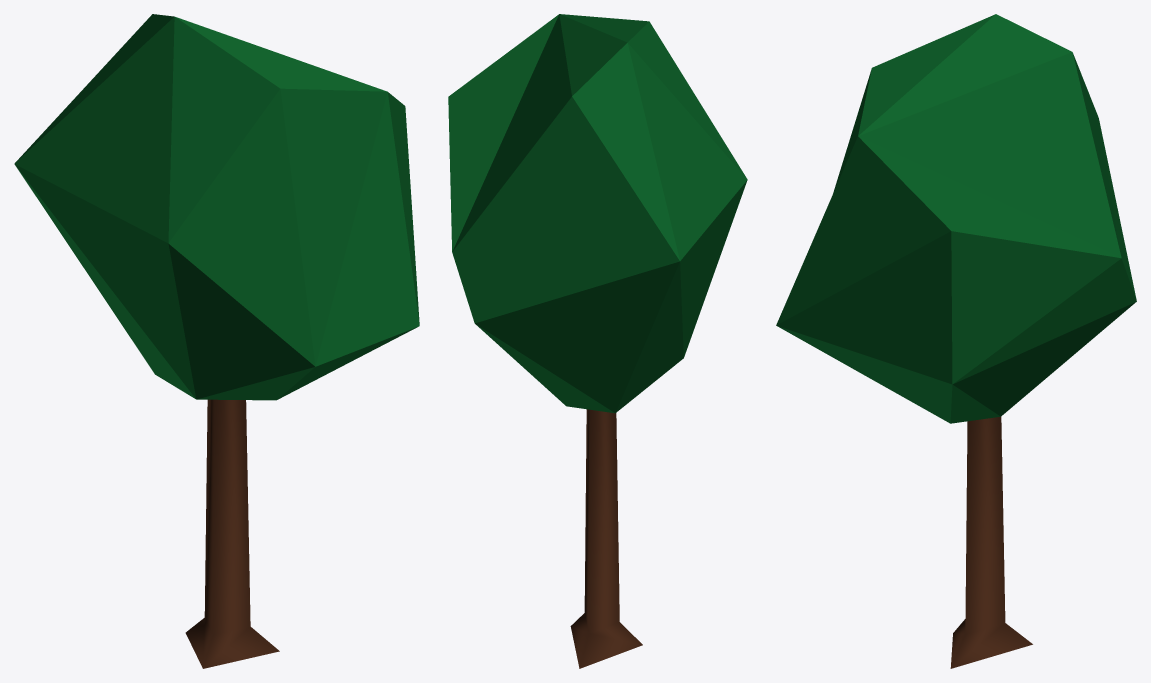
Rendered from Tree3.FBX.
The picture shows the model from 3 angles, left to right: view 1: azimuth 30°, elevation 25°; view 2: azimuth 150°, elevation 25°; view 3: azimuth 270°, elevation 25°; orthographic projection. The views are drawn at different scales.
Visible parts, largest first — view 1: Sphere198; view 2: Sphere198; view 3: Sphere198.
Part boxes in pixels (x1,y1,x2,y2): Sphere198: [14, 14, 419, 668]; Sphere198: [448, 14, 747, 668]; Sphere198: [776, 14, 1136, 668].
Size of the model in its own units: 5.28 by 10.22 by 5.42.
